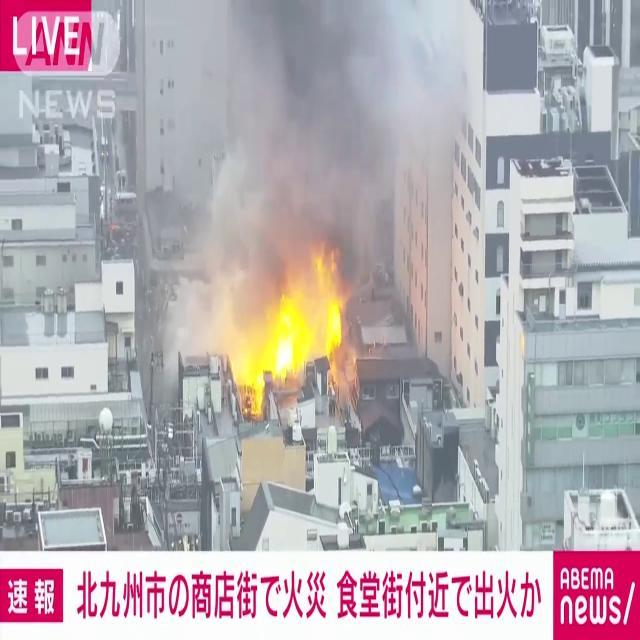Fire: (231, 245, 355, 402)
Smoke: (156, 1, 446, 300)
